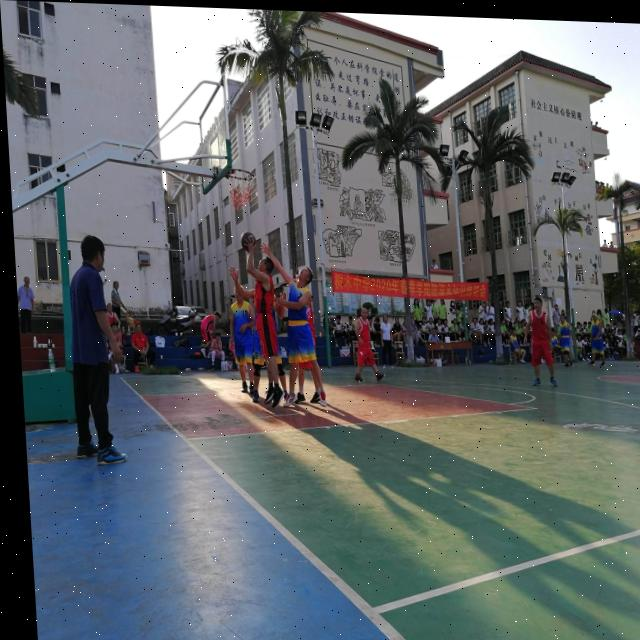basketball: (240, 231, 257, 255)
hoop: (227, 169, 257, 209)
